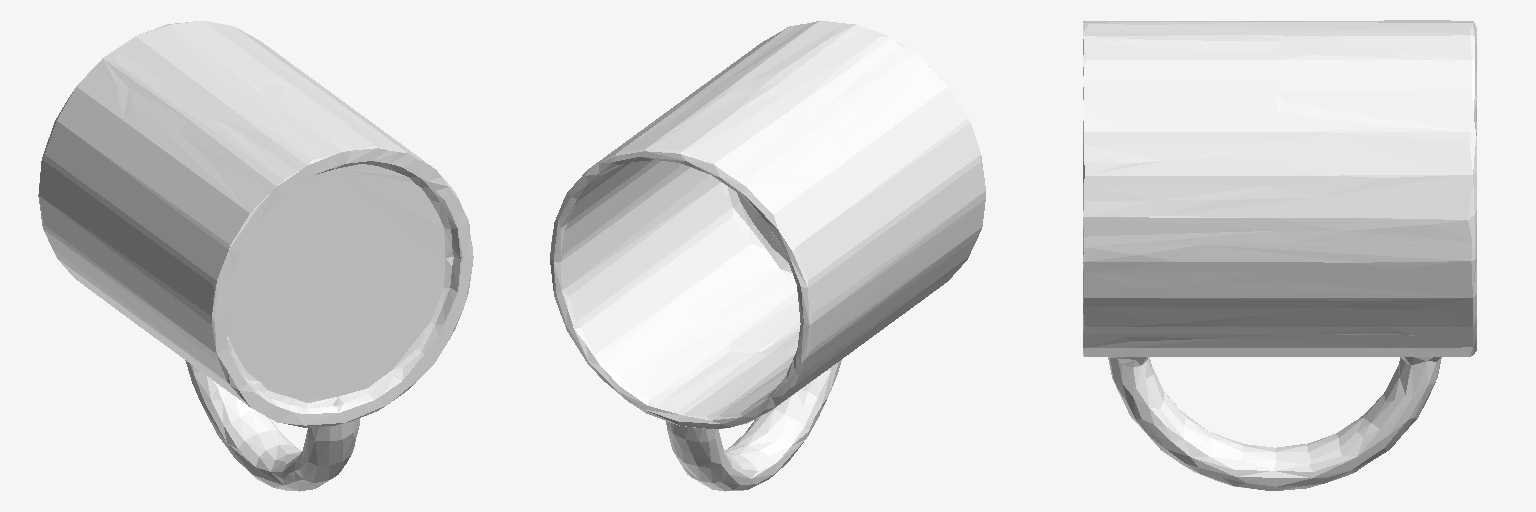
URDF robot description (mug):
<robot name="mug">
	<link name="mug">
		<inertial>
			<origin rpy="0 0 0" xyz="-0.015061860535935834 0.0824616083346064 -0.022496548021848722"/>
			<mass value="0.171774486"/>
			<inertia ixx="8.0471e-03" ixy="-6.9630e-04" ixz="1.5240e-04" iyy="9.0810e-03" iyz="-7.7200e-05" izz="8.1964e-03"/>
		</inertial>
		<visual>
			<origin xyz="0 0 0" rpy="0 0 0" />
			<geometry>
				<mesh filename="mug/model/model_normalized.obj" scale="1 1 1" />
			</geometry>
			<material name="texture">
				<color rgba="1.0 1.0 1.0 1.0" />
			</material>
		</visual>
		<collision>
			<geometry>
				<mesh filename="mug/model/model_normalized.obj" scale="1 1 1" />
			</geometry>
			<origin xyz="0 0 0" rpy="0 0 0" />
		</collision>
	</link>

</robot>

--- Render facts (derived) ---
The picture shows the robot from 3 angles, left to right: view 1: azimuth 30°, elevation 25°; view 2: azimuth 150°, elevation 25°; view 3: azimuth 270°, elevation 25°; orthographic projection.
Robot: mug — 1 links, 0 joints (none); root link mug; default pose: all joints at 0.
Visible links, largest first — view 1: mug; view 2: mug; view 3: mug.
Boxes of the visible links, <box> form: mug: <box>38,21,473,491</box>; mug: <box>550,20,985,491</box>; mug: <box>1083,20,1476,490</box>.
Bounding box of the posed robot: 0.4734 × 0.5548 × 0.6854 m (x, y, z).
Meshes: 1 distinct files referenced, 1 mesh visuals loaded (1 OBJ).